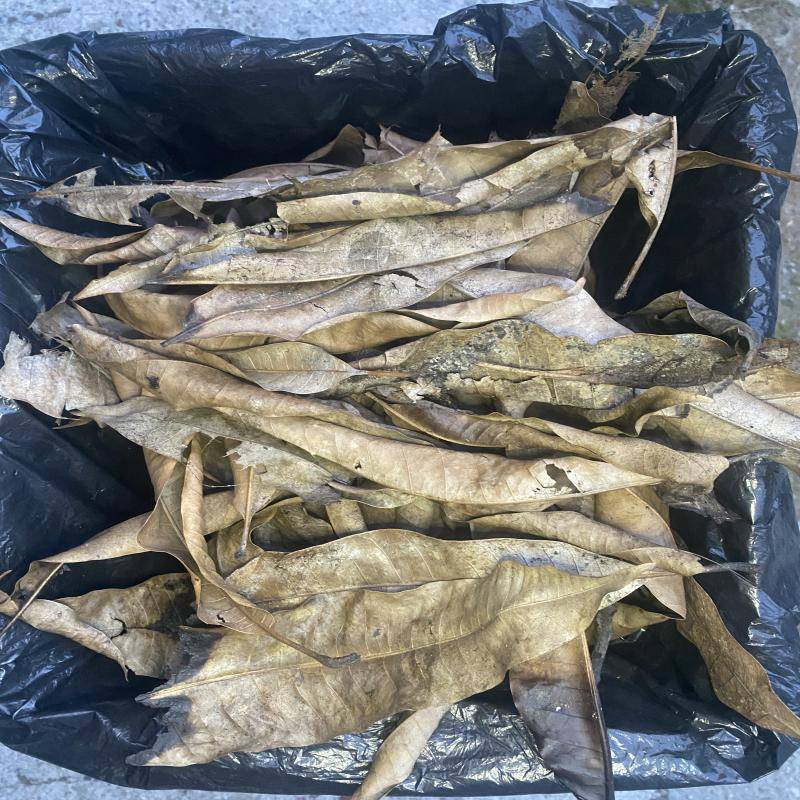treeleaves: (135, 560, 656, 768), (271, 114, 680, 300), (65, 280, 587, 395), (136, 433, 362, 669), (212, 398, 661, 516), (70, 324, 432, 446), (158, 193, 612, 285), (159, 238, 534, 347), (364, 392, 730, 488), (402, 319, 739, 418), (225, 529, 634, 609), (20, 573, 224, 684), (676, 576, 800, 746), (0, 214, 241, 301), (29, 163, 355, 227), (591, 367, 800, 461), (0, 512, 151, 637), (509, 633, 615, 800), (465, 511, 727, 576), (0, 331, 123, 419), (347, 704, 453, 800), (104, 289, 199, 340)
